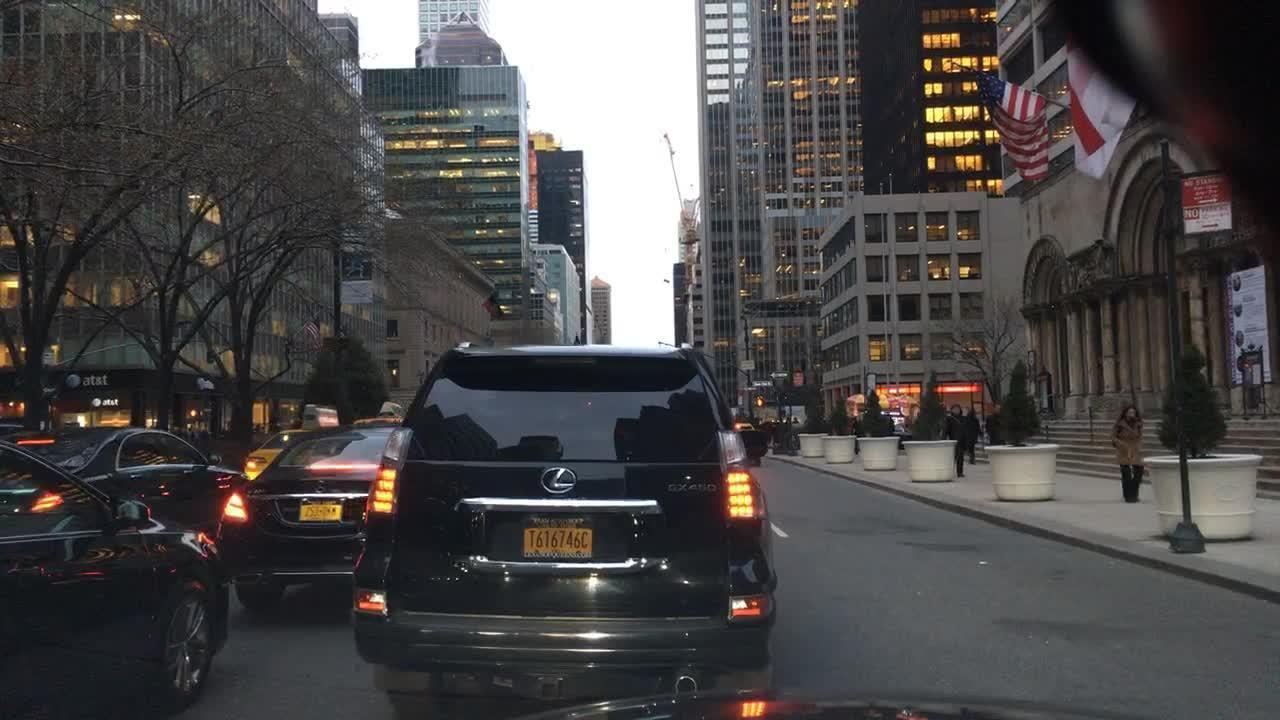Mercedes: (308, 477, 330, 494)
lexus: (527, 457, 587, 502)
